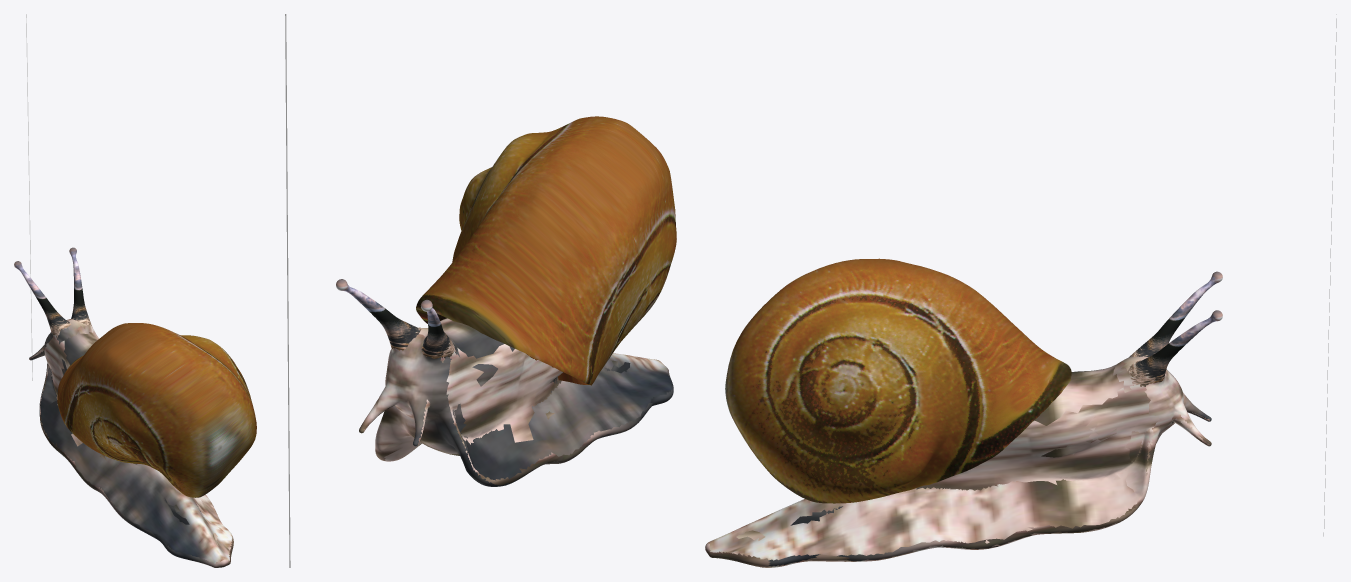
3 views of the same model, side by side, from view 1: azimuth 30°, elevation 25°; view 2: azimuth 150°, elevation 25°; view 3: azimuth 270°, elevation 25° (orthographic). The views are drawn at different scales.
Visible parts, largest first — view 1: snail, Плоскость; view 2: snail, Плоскость; view 3: snail.
Part boxes in pixels (<box>): snail: <box>14,247,256,567</box>; Плоскость: <box>26,14,32,380</box>; snail: <box>336,116,676,486</box>; Плоскость: <box>285,14,290,567</box>; snail: <box>705,258,1222,567</box>.
Size of the model in its own units: 11.96 by 33.89 by 34.91.
Materials: 4 (3 with a texture image).
